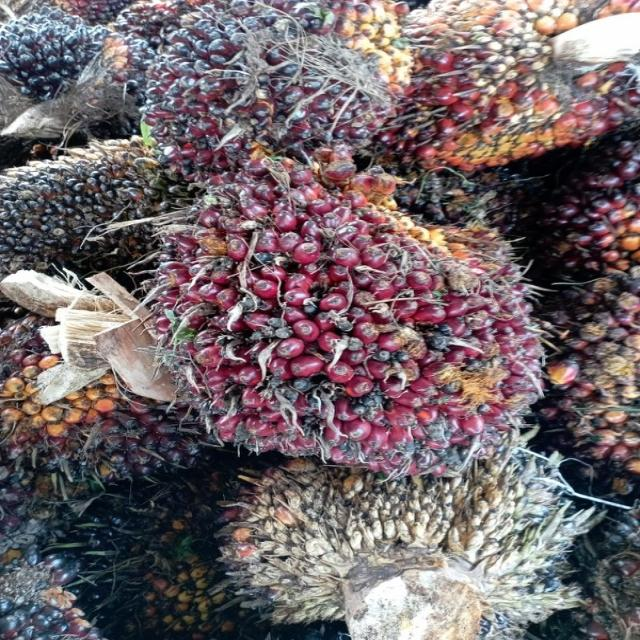fraksi 00: (0, 135, 177, 250), (0, 13, 140, 116)
fraksi 1: (144, 7, 386, 170)
fraksi 3: (151, 185, 550, 470), (400, 3, 640, 172)
